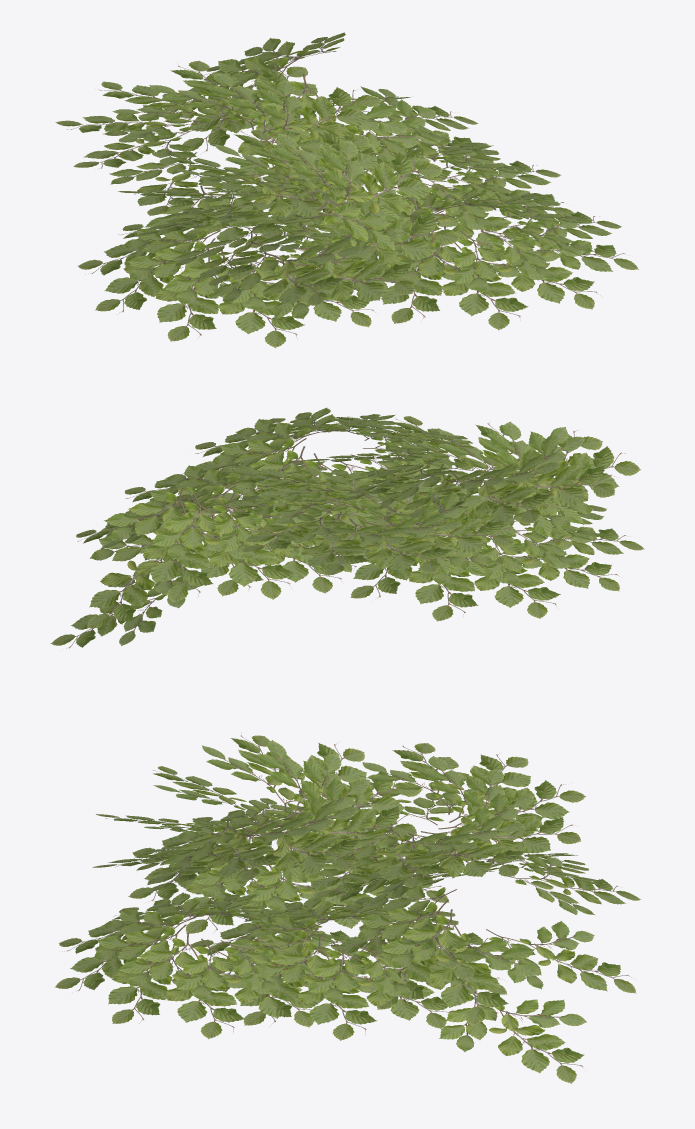
Rendered from feuille.fbx.
3 views of the same model, one above another, from view 1: azimuth 30°, elevation 25°; view 2: azimuth 150°, elevation 25°; view 3: azimuth 270°, elevation 25° (orthographic). The views are drawn at different scales.
Parts seen in each view (by area): view 1: feuille1; view 2: feuille1; view 3: feuille1.
Boxes of the visible parts, x1,y1,x2,y2 form: feuille1: (55, 32, 638, 348); feuille1: (50, 407, 644, 648); feuille1: (54, 732, 641, 1083).
Bounding box in the file's own units: 1449 × 424 × 1518.
